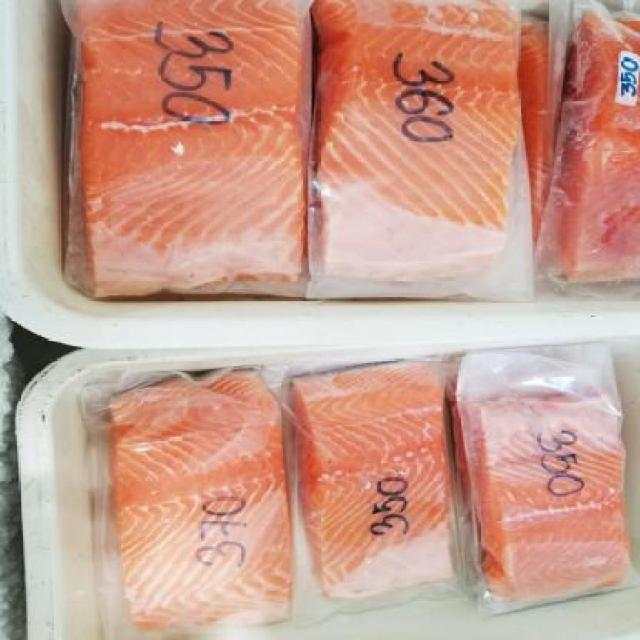salmon: (54, 8, 310, 302), (59, 345, 296, 630), (320, 5, 537, 310), (448, 343, 637, 615), (278, 355, 478, 604), (546, 11, 640, 288)
